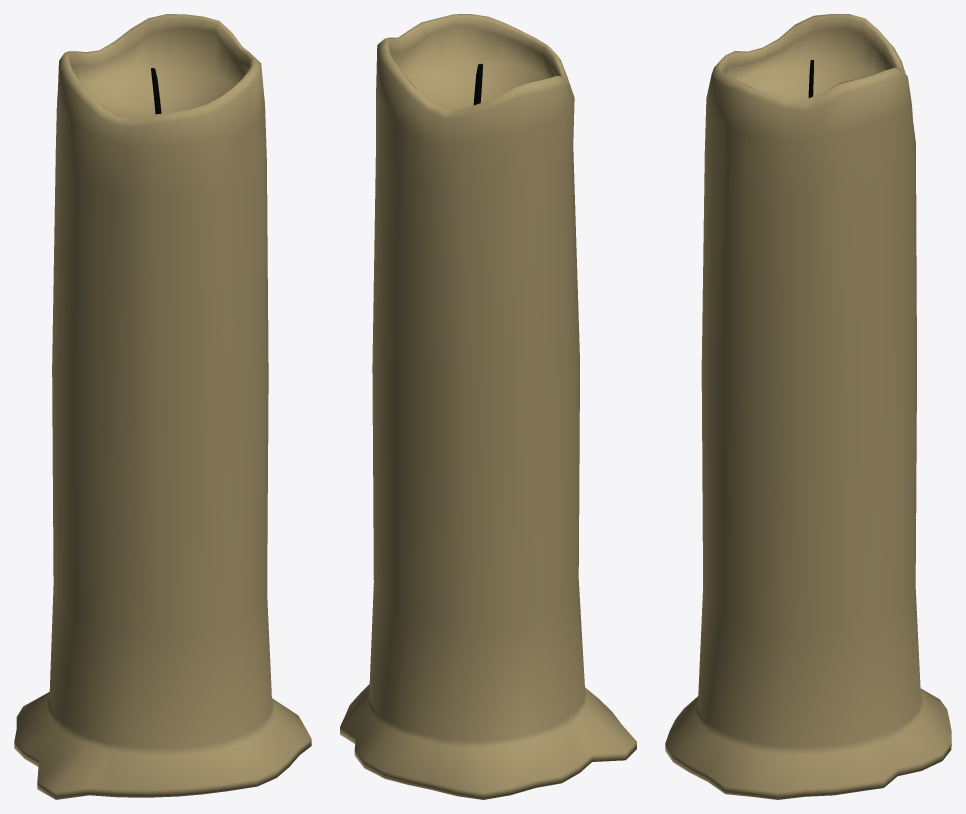
File: candle_full.fbx
3 renders of one model, left to right at view 1: azimuth 30°, elevation 25°; view 2: azimuth 150°, elevation 25°; view 3: azimuth 270°, elevation 25°, orthographic.
Visible parts, largest first — view 1: Candle 3; view 2: Candle 3; view 3: Candle 3.
Boxes of the visible parts, x1,y1,x2,y2 form: Candle 3: (14,14,311,799); Candle 3: (340,14,636,799); Candle 3: (665,14,951,799).
Size of the model in its own units: 128 by 327 by 122.
